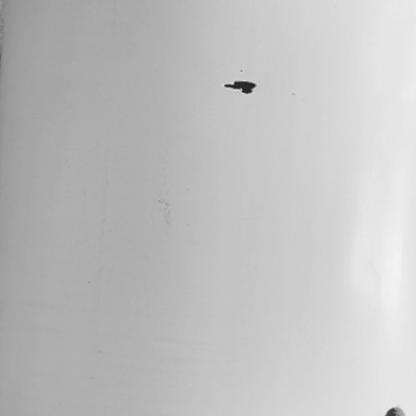kongdong: (219, 77, 265, 99)
